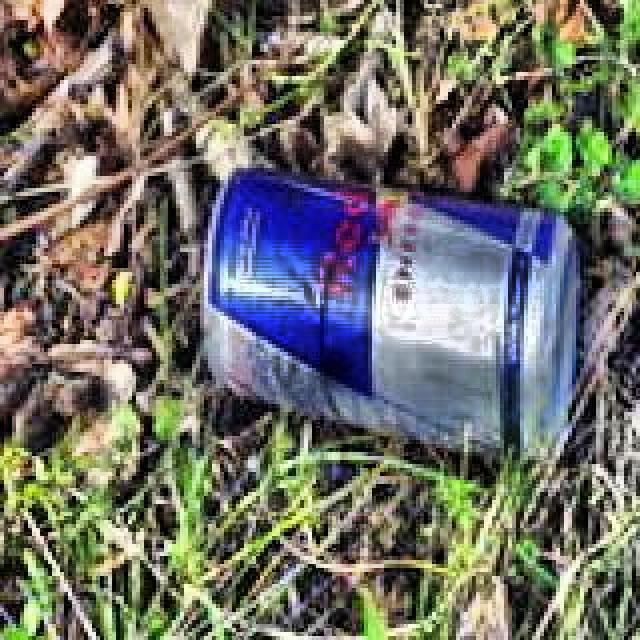metal: (196, 169, 579, 456)
